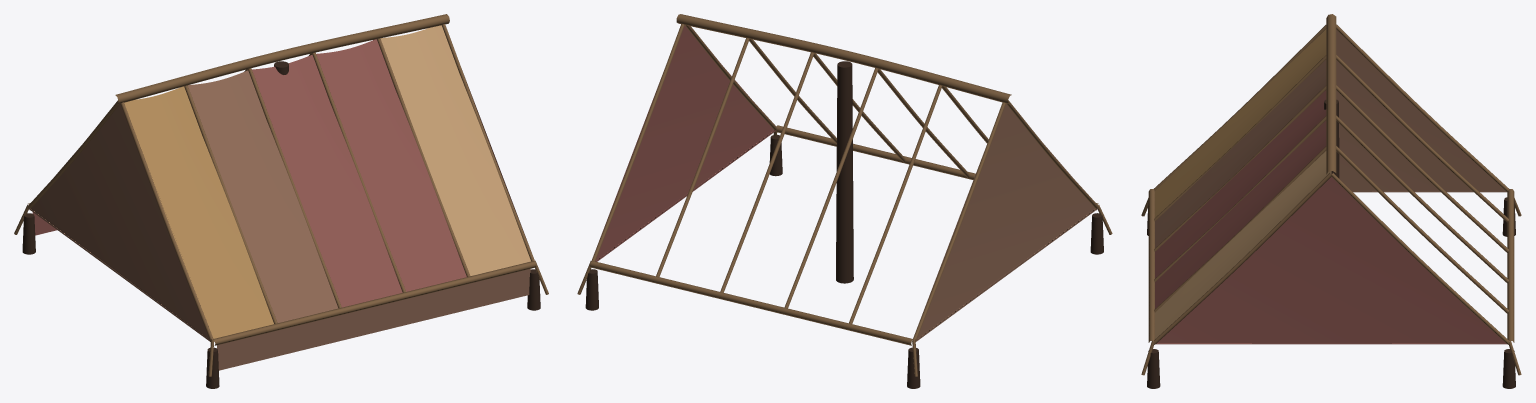
The model's file is extra_nomad_tent.glb.
3 views of the same model, side by side, from view 1: azimuth 30°, elevation 25°; view 2: azimuth 150°, elevation 25°; view 3: azimuth 270°, elevation 25° (orthographic). The views are drawn at different scales.
Visible parts, largest first — view 1: cloth; view 2: cloth; view 3: cloth.
Part boxes in pixels (x1,y1,x2,y2): cloth: [14, 14, 548, 388]; cloth: [577, 14, 1112, 388]; cloth: [1141, 14, 1521, 388].
Bounding box in the file's own units: 2.8 × 1.8 × 2.8.
